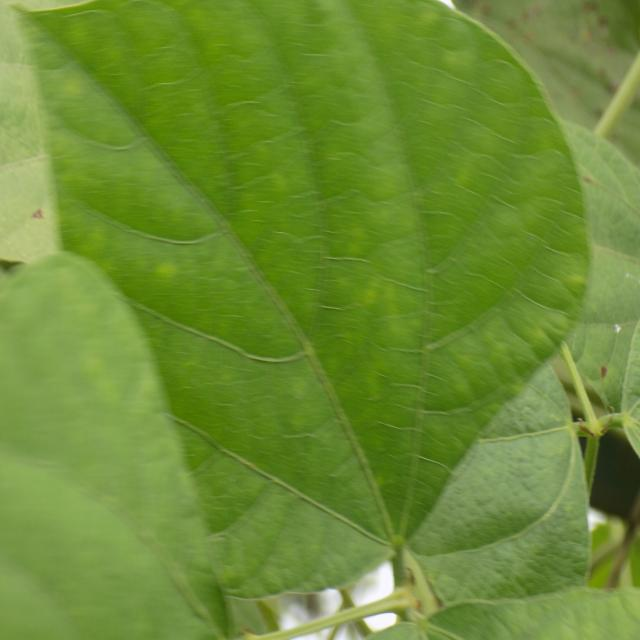Dolicos bean_healthy: (14, 0, 595, 593), (342, 291, 597, 626)
